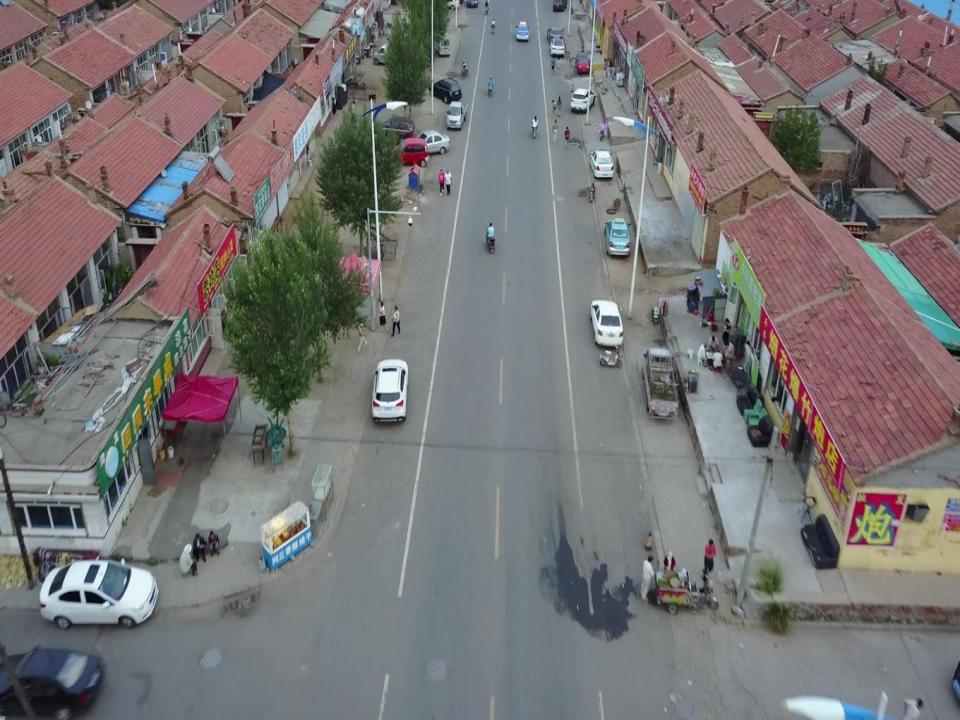car: (38, 561, 160, 629), (0, 650, 105, 714), (371, 357, 408, 425), (592, 298, 624, 348), (388, 138, 429, 168), (376, 117, 414, 146), (603, 220, 631, 257), (414, 131, 450, 158), (429, 76, 462, 104), (589, 148, 613, 179), (571, 87, 595, 114), (446, 100, 467, 128), (576, 54, 592, 74), (551, 38, 567, 58), (548, 26, 565, 44), (515, 22, 529, 40), (439, 0, 459, 11)
truck: (642, 348, 680, 420)
van: (373, 43, 405, 68), (434, 35, 452, 57), (552, 0, 569, 13)
